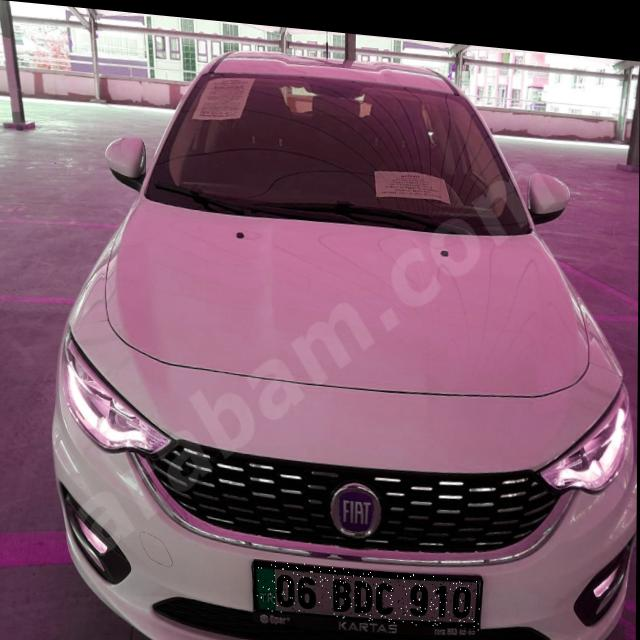license_plate: (255, 554, 481, 622)
